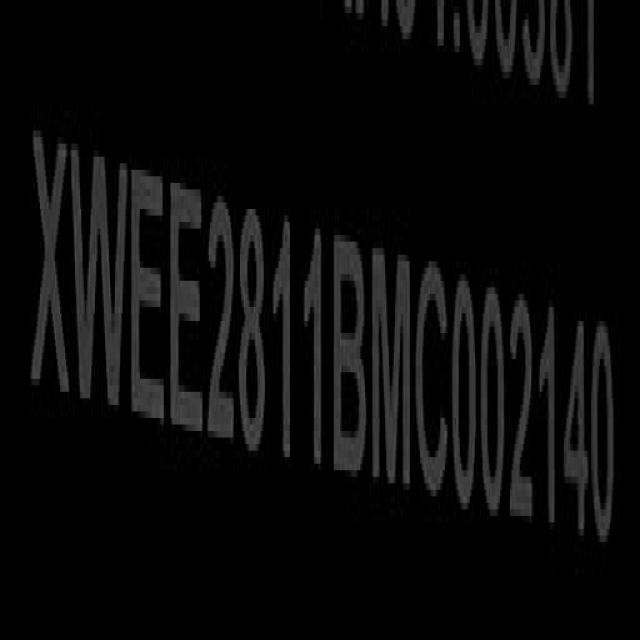0: (454, 267, 480, 516), (480, 279, 506, 523), (594, 316, 620, 552)
1: (272, 201, 294, 471), (303, 214, 325, 477), (538, 300, 556, 539)
2: (208, 185, 235, 453), (508, 289, 534, 533)
4: (564, 318, 589, 548)
8: (239, 195, 268, 459)
B: (333, 222, 368, 489)
C: (416, 255, 451, 510)
E: (170, 170, 206, 450), (134, 159, 168, 439)
M: (375, 234, 415, 500)
W: (73, 136, 130, 429)
X: (32, 119, 72, 419)
